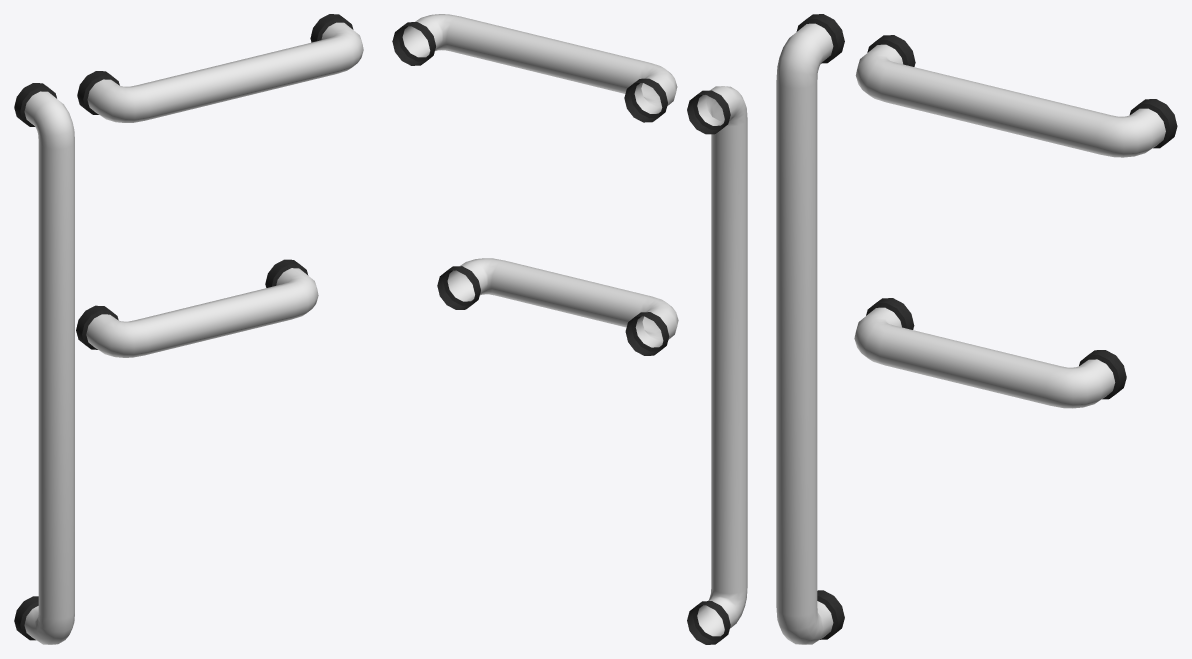
Rendered from LettersNeon01_F.FBX.
3 renders of one model, left to right at view 1: azimuth 30°, elevation 25°; view 2: azimuth 150°, elevation 25°; view 3: azimuth 330°, elevation 25°, orthographic. The views are drawn at different scales.
Visible parts, largest first — view 1: LettersNeon01_F; view 2: LettersNeon01_F; view 3: LettersNeon01_F.
Boxes of the visible parts, x1,y1,x2,y2 form: LettersNeon01_F: (14,14,363,644); LettersNeon01_F: (392,14,747,644); LettersNeon01_F: (776,14,1177,644).
Size of what is drawn, in the model's own units: 0.3182 by 0.503 by 0.054.
